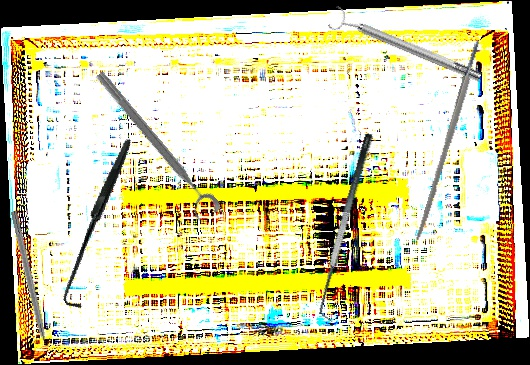Fixation Ring: (84, 67, 223, 226), (327, 3, 485, 91)
Hook Surgical: (11, 137, 189, 314), (8, 210, 52, 359)
Scalpel Handle: (413, 39, 484, 242)
Spatula Surgical: (308, 131, 389, 323)
